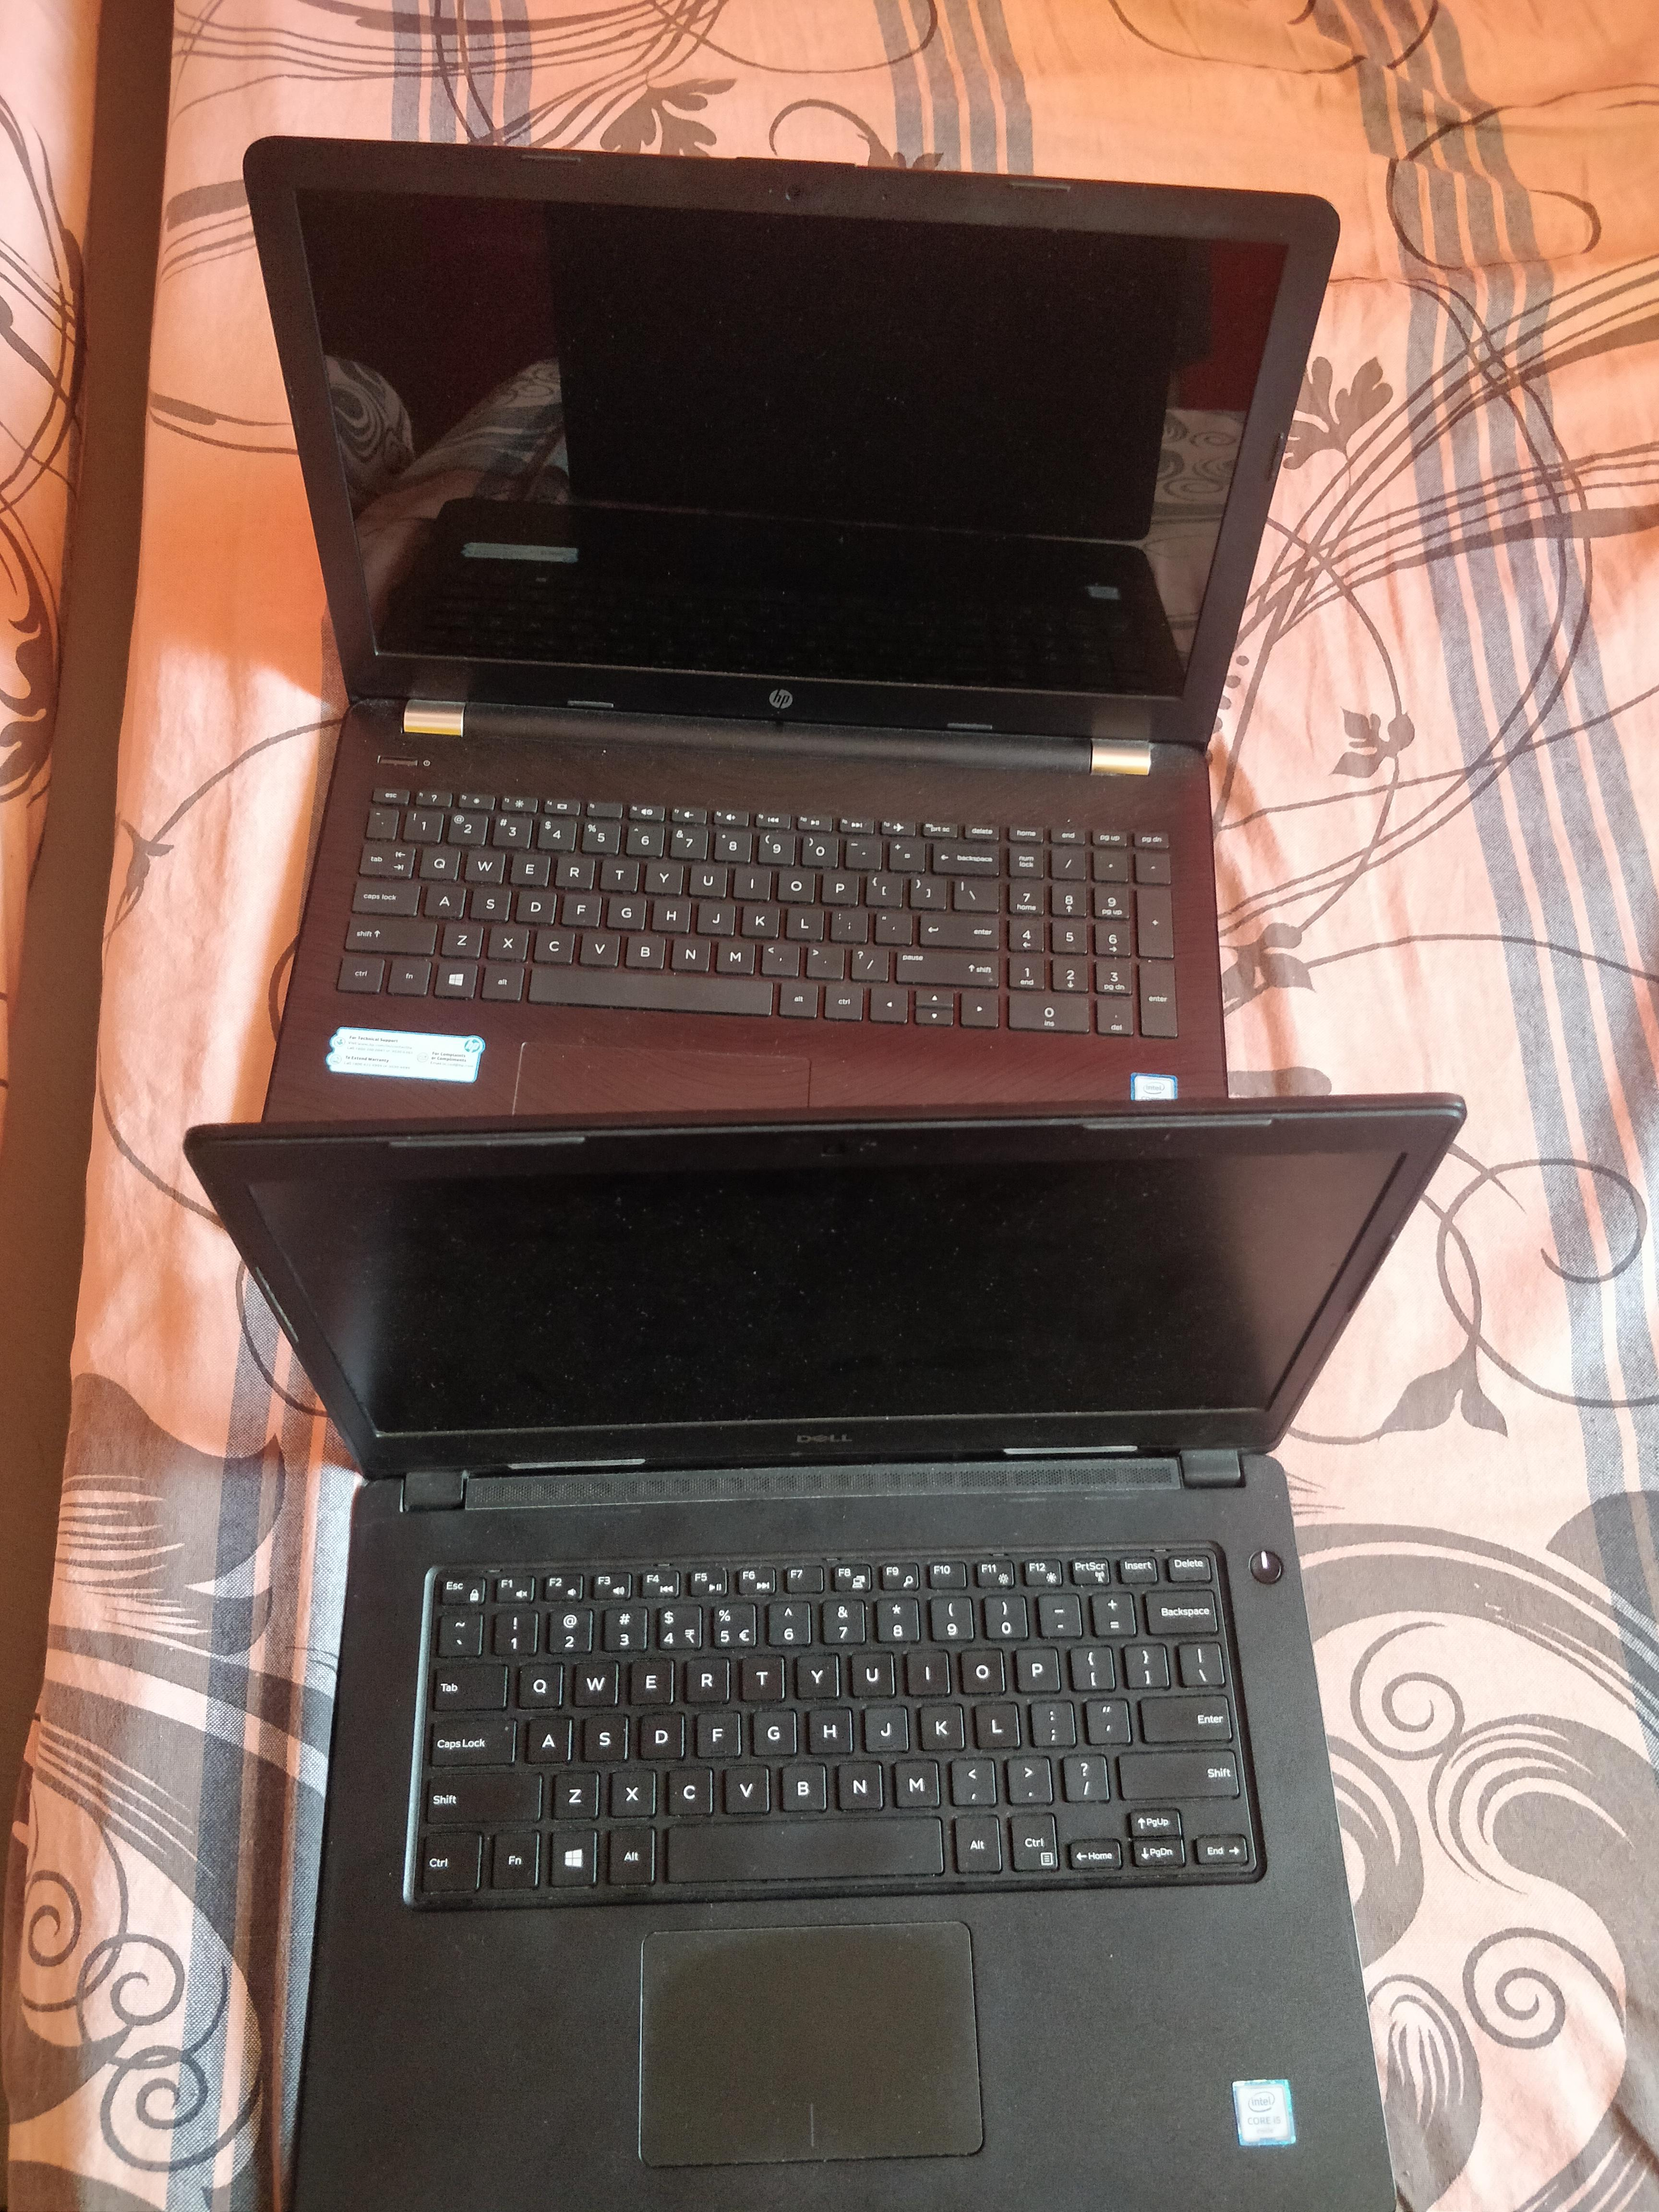laptop: (134, 1073, 1523, 2212), (197, 117, 1363, 1197)
